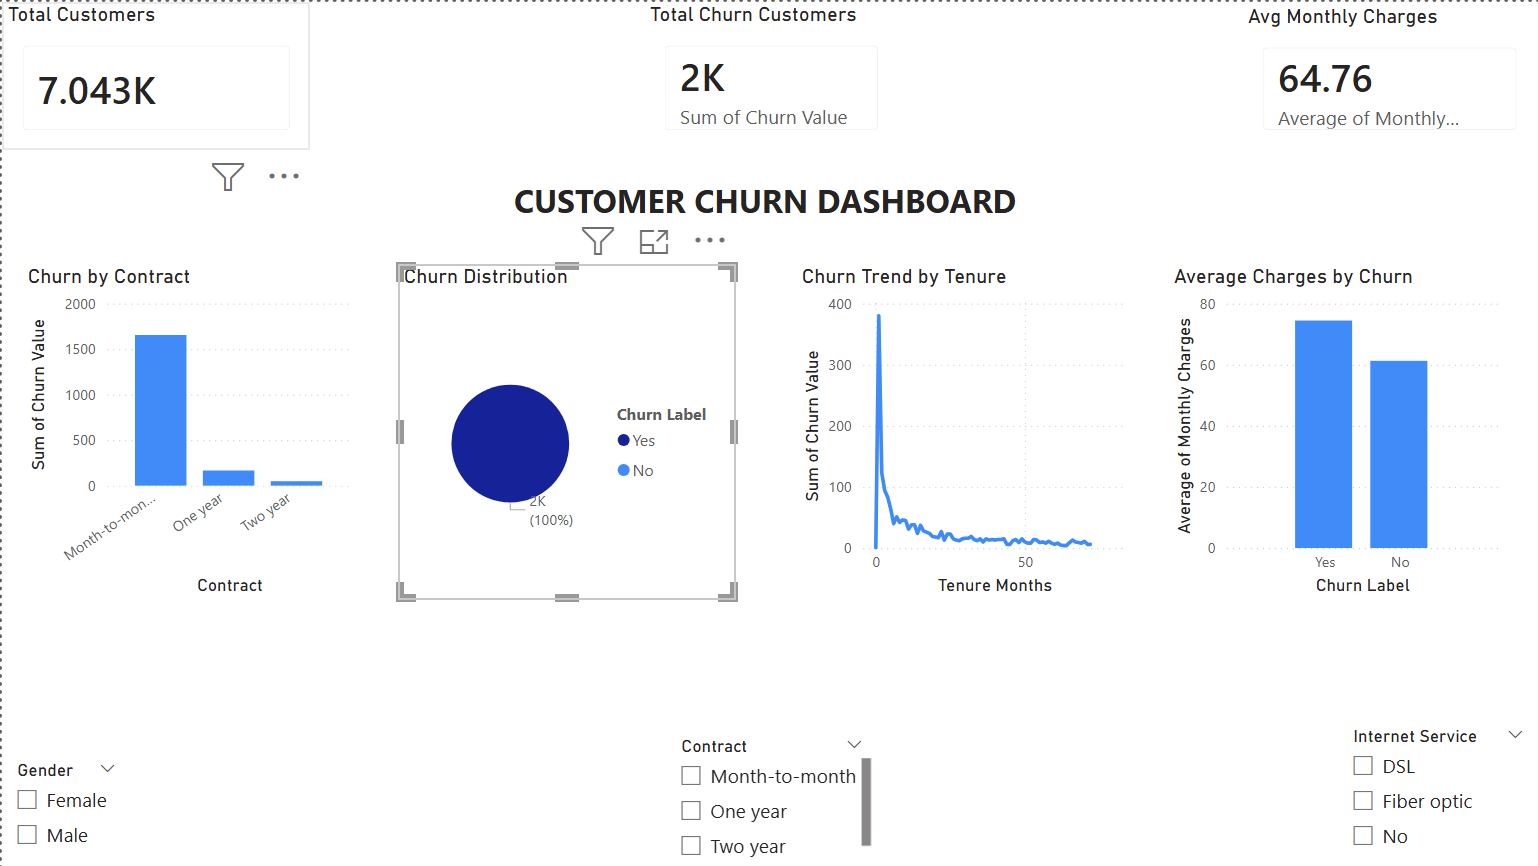

This screenshot's page, from the dashboard's own definition file:
{"tool":"powerbi","page":{"name":"Page 1","canvas":[1280,720],"ordinal":0},"visuals":[{"type":"cardVisual","title":"Total Customers","fields":{"Data":["CountNonNull(Telco_customer_churn.CustomerID)"]},"box":[0,0,257.2,124],"z":0},{"type":"cardVisual","title":"Total Churn Customers","fields":{"Data":["Sum(Telco_customer_churn.Churn Value)"]},"box":[534.4,0,212.8,124],"z":1000},{"type":"cardVisual","title":"Avg Monthly Charges","fields":{"Data":["Avg(Telco_customer_churn.Monthly Charges)"]},"box":[1033.5,1.5,246.5,122.5],"z":2000},{"type":"clusteredColumnChart","title":"Average Charges by Churn","fields":{"Category":["Telco_customer_churn.Churn Label"],"Y":["Avg(Telco_customer_churn.Monthly Charges)"]},"box":[972.2,218.9,280.2,280.2],"z":3000},{"type":"clusteredColumnChart","title":"Churn by Contract","fields":{"Category":["Telco_customer_churn.Contract"],"Y":["Sum(Telco_customer_churn.Churn Value)"]},"box":[16.8,218.9,280.2,280.2],"z":4000},{"type":"lineChart","title":"Churn Trend by Tenure","fields":{"Category":["Telco_customer_churn.Tenure Months"],"Y":["Sum(Telco_customer_churn.Churn Value)"]},"box":[661.4,218.9,280.2,280.2],"z":5000},{"type":"slicer","fields":{"Values":["Telco_customer_churn.Gender"]},"box":[0,626.2,107.2,93.4],"z":5001},{"type":"slicer","fields":{"Values":["Telco_customer_churn.Contract"]},"box":[552.7,606.3,176.1,113.3],"z":5002},{"type":"slicer","fields":{"Values":["Telco_customer_churn.Internet Service"]},"box":[1113.1,598.7,166.9,121],"z":5003},{"type":"pieChart","title":"Churn Distribution","fields":{"Category":["Telco_customer_churn.Churn Label"],"Y":["Sum(Telco_customer_churn.Churn Value)"]},"box":[330.7,218.9,280.2,280.2],"z":5004},{"type":"textbox","box":[421.1,140.9,439.4,56.7],"z":5005}]}

Visuals, with their boxes in screenshot pixels (x1, y1, x2, y2), scaled from the page's 1280x720 canvas onto the 1538x866 screenshot:
"Total Customers" cardVisual: bbox=[0, 0, 309, 149]
"Total Churn Customers" cardVisual: bbox=[642, 0, 898, 149]
"Avg Monthly Charges" cardVisual: bbox=[1242, 2, 1537, 149]
"Average Charges by Churn" clusteredColumnChart: bbox=[1168, 263, 1505, 600]
"Churn by Contract" clusteredColumnChart: bbox=[20, 263, 357, 600]
"Churn Trend by Tenure" lineChart: bbox=[795, 263, 1131, 600]
slicer - Telco_customer_churn.Gender: bbox=[0, 753, 129, 865]
slicer - Telco_customer_churn.Contract: bbox=[664, 729, 876, 865]
slicer - Telco_customer_churn.Internet Service: bbox=[1337, 720, 1537, 865]
"Churn Distribution" pieChart: bbox=[397, 263, 734, 600]
textbox: bbox=[506, 169, 1034, 238]
